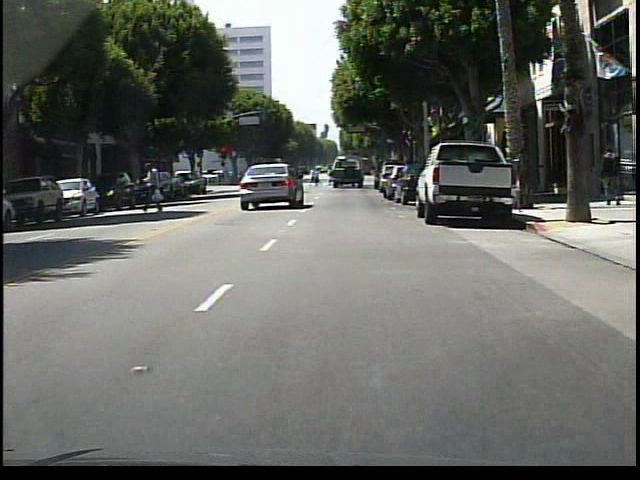person: (596, 145, 623, 206), (145, 157, 166, 212), (312, 165, 323, 187)
